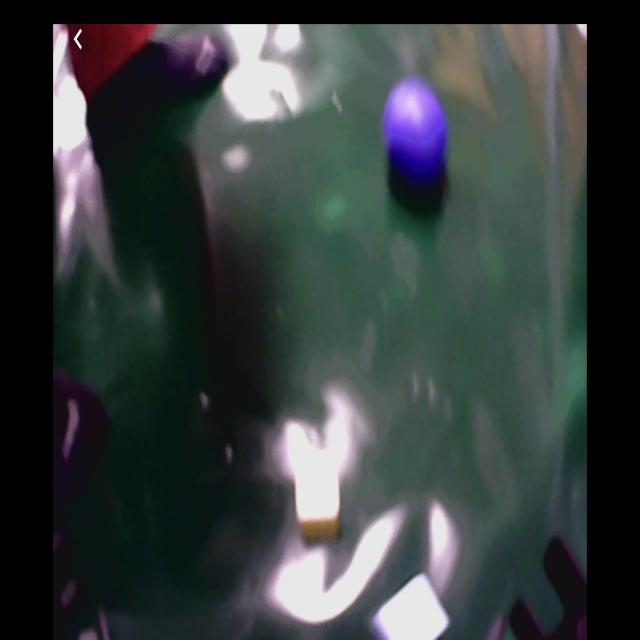ball: (387, 85, 448, 180)
